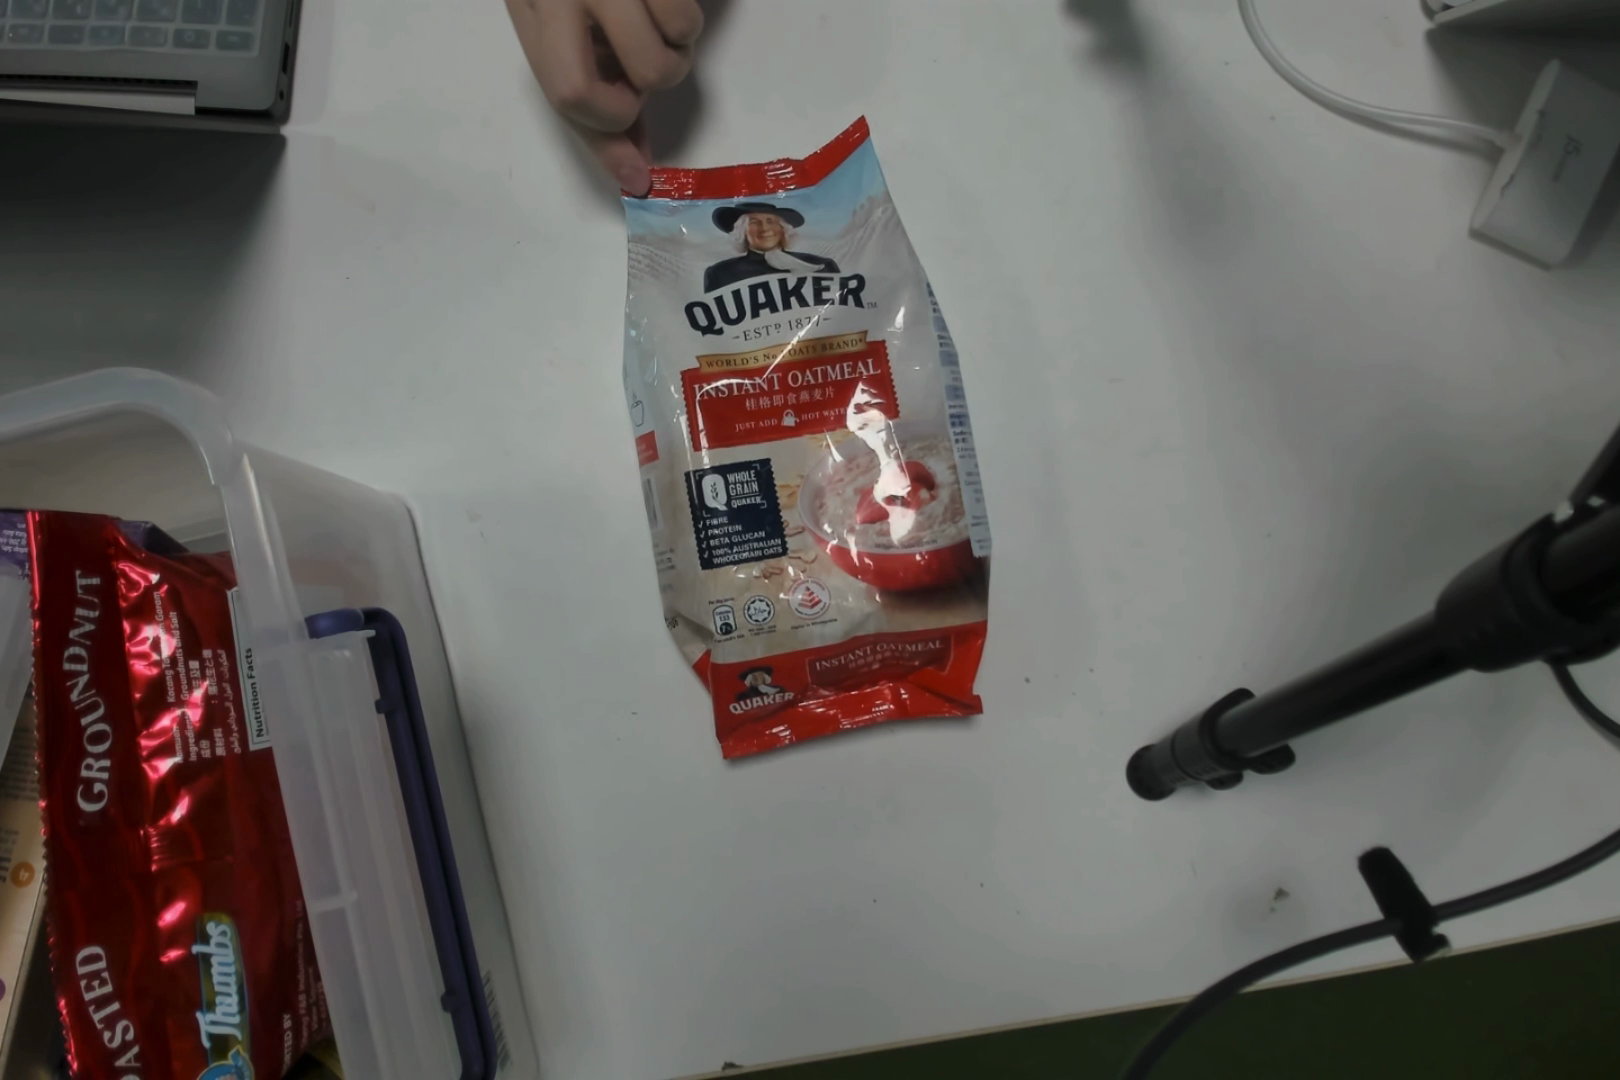RolledOatsInstantOatmeal_400-499g_Halal_Healthy: (655, 178, 1006, 730)
